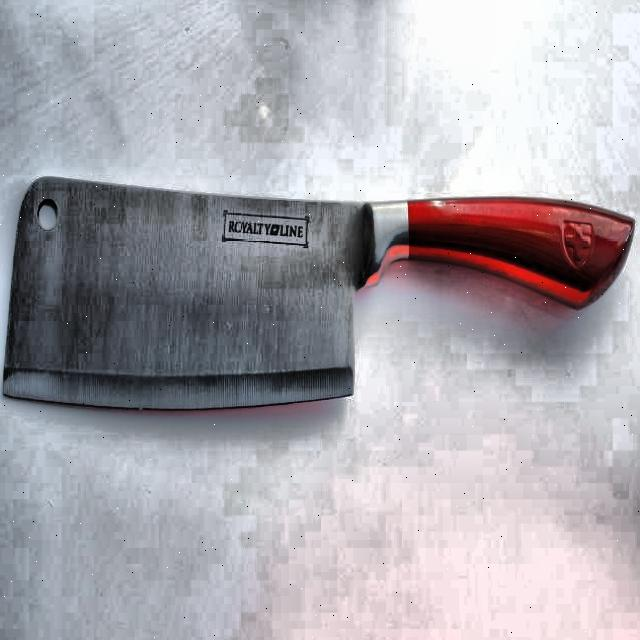knife: (2, 170, 639, 438)
